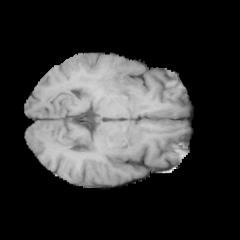glioma: (79, 55, 143, 98)
